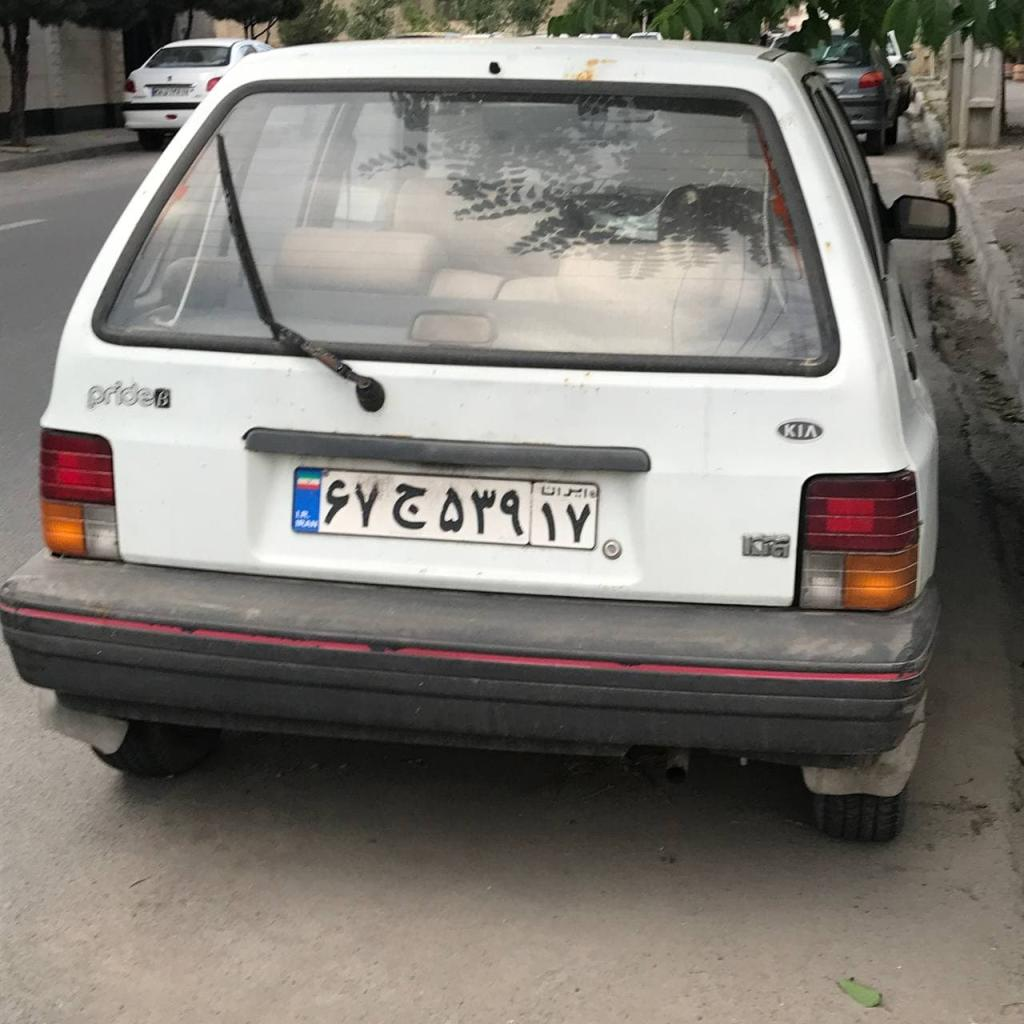Plates: (292, 466, 599, 548)
